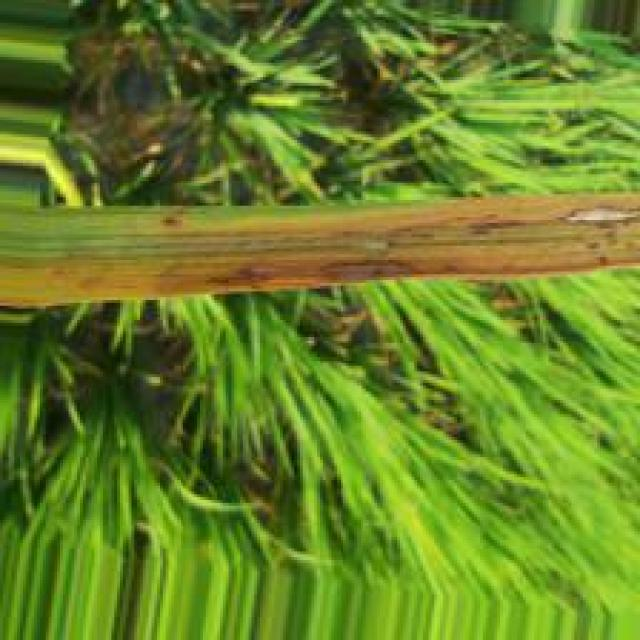Leaf_Blast: (0, 190, 640, 308)
